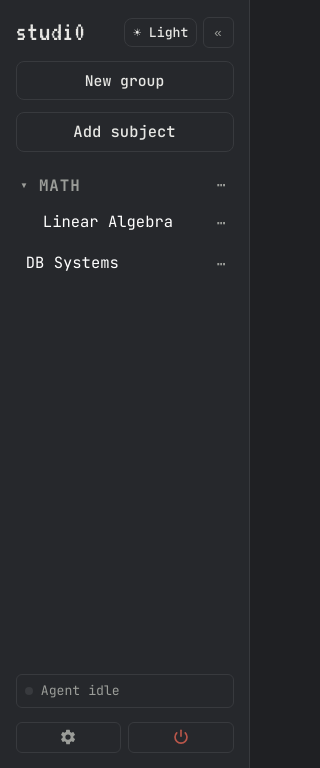
Scenario: Sidebar groups and menus › opens the same menu on right-click
This screenshot has width=320, height=768.
Right-click the button "DB Systems" at (111, 263), box [16,243,207,284]
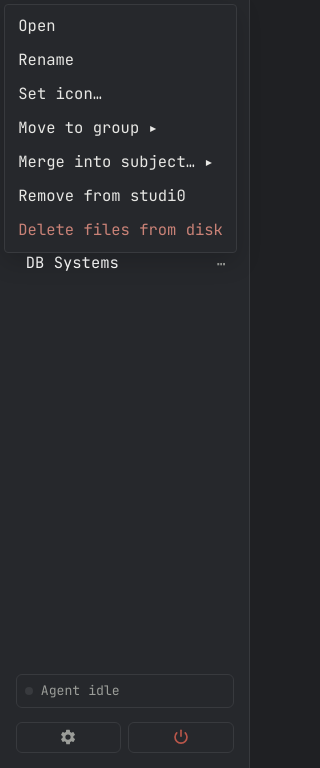
Now the menu item "Rename" is shown, box [9,43,232,77]
Now the menu item "Delete files from disk" is shown, box [9,214,232,248]
